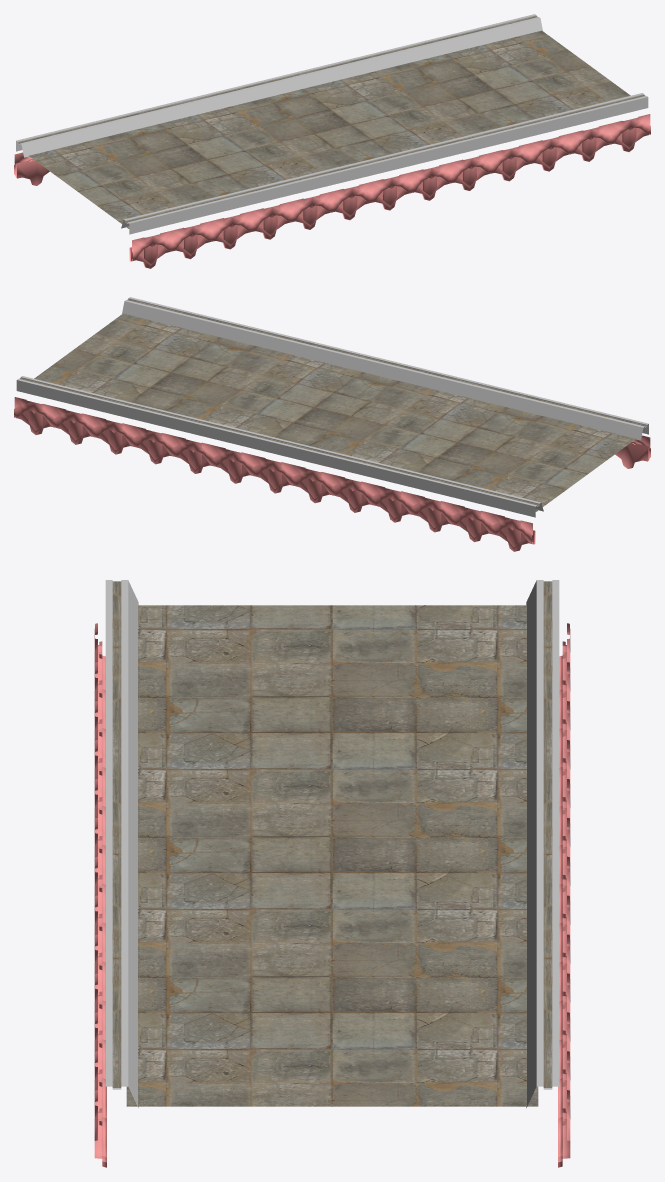
File: Road.fbx
3 views of the same model, one above another, from view 1: azimuth 30°, elevation 25°; view 2: azimuth 150°, elevation 25°; view 3: azimuth 270°, elevation 25° (orthographic). The views are drawn at different scales.
Parts seen in each view (by area): view 1: LV_Nigraturis_Lower_FloorIntro_SM_HSH; view 2: LV_Nigraturis_Lower_FloorIntro_SM_HSH; view 3: LV_Nigraturis_Lower_FloorIntro_SM_HSH.
Boxes of the visible parts, x1,y1,x2,y2 form: LV_Nigraturis_Lower_FloorIntro_SM_HSH: [14, 14, 650, 268]; LV_Nigraturis_Lower_FloorIntro_SM_HSH: [14, 297, 650, 551]; LV_Nigraturis_Lower_FloorIntro_SM_HSH: [94, 580, 570, 1167].
Size of the model in its own units: 13.92 by 1.29 by 5.52.
